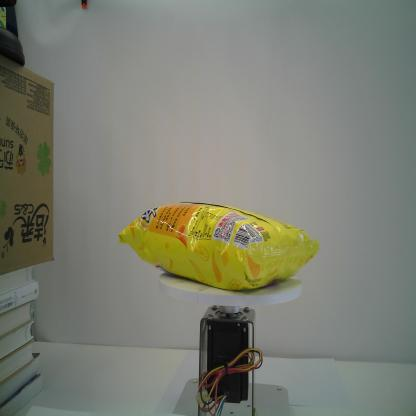Puffed Food: (112, 192, 319, 297)
